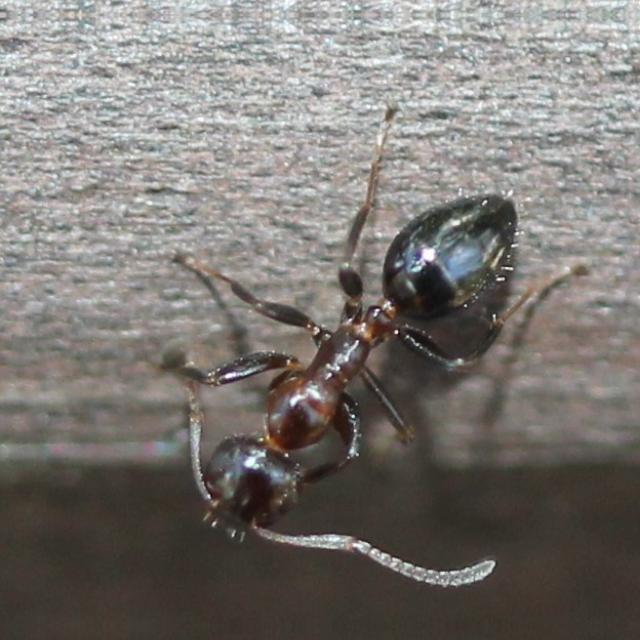Colobopsis: (151, 158, 564, 568)
